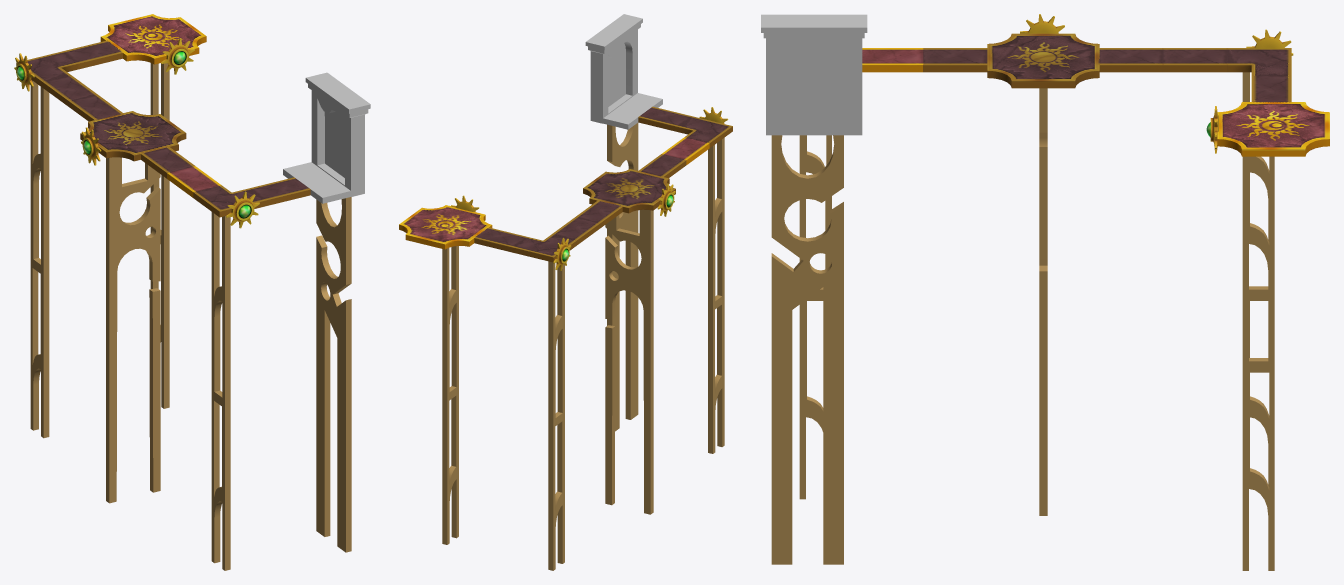
The model's file is reset_value.fbx.
The picture shows the model from 3 angles, left to right: view 1: azimuth 30°, elevation 25°; view 2: azimuth 150°, elevation 25°; view 3: azimuth 270°, elevation 25°; orthographic projection. The views are drawn at different scales.
Visible parts, largest first — view 1: Stand_02, Stand_01, pCube19, pCube17, pCube30, pCube25, pCube26, pCube31, pCube28, pCube23, pCube34, pCube32 (+8 smaller); view 2: Stand_01, pCube19, pCube30, pCube17, pCube31, Stand_02, pCube26, pCube25, pCube28, pCube23, pCube34, pCube32 (+4 smaller); view 3: Stand_02, pCube19, pCube31, pCube25, pCube26, Stand_01, pCube17, pCube23, pCube30, pCube3, pCube27, pCube33 (+2 smaller).
Boxes of the visible parts, <box> form: Stand_02: <box>316,197,351,552</box>; Stand_01: <box>106,157,160,503</box>; pCube19: <box>283,72,370,203</box>; pCube17: <box>211,212,230,570</box>; pCube30: <box>30,80,49,438</box>; pCube25: <box>80,111,186,161</box>; pCube26: <box>100,14,206,64</box>; pCube31: <box>150,63,169,408</box>; pCube28: <box>193,185,265,217</box>; pCube23: <box>16,51,78,87</box>; pCube34: <box>249,177,310,206</box>; pCube32: <box>62,40,123,69</box>; Stand_01: <box>605,209,653,514</box>; pCube19: <box>585,14,662,129</box>; pCube30: <box>548,261,564,570</box>; pCube17: <box>708,138,724,453</box>; pCube31: <box>442,246,458,544</box>; Stand_02: <box>607,122,638,431</box>; pCube26: <box>399,205,492,249</box>; pCube25: <box>583,169,675,213</box>; pCube28: <box>678,116,732,147</box>; pCube23: <box>513,234,576,262</box>; pCube34: <box>638,106,692,131</box>; pCube32: <box>474,227,527,252</box>; Stand_02: <box>771,135,843,564</box>; pCube19: <box>761,14,867,135</box>; pCube31: <box>1242,156,1274,570</box>; pCube25: <box>987,33,1099,88</box>; pCube26: <box>1217,102,1329,156</box>; Stand_01: <box>1039,88,1047,515</box>; pCube17: <box>799,135,831,499</box>; pCube23: <box>1227,48,1291,75</box>; pCube30: <box>1242,72,1269,486</box>; pCube3: <box>1163,48,1227,72</box>; pCube27: <box>923,48,987,72</box>; pCube33: <box>1098,48,1162,72</box>.
Bounding box in the file's own units: 17.84 × 37.45 × 35.38.
